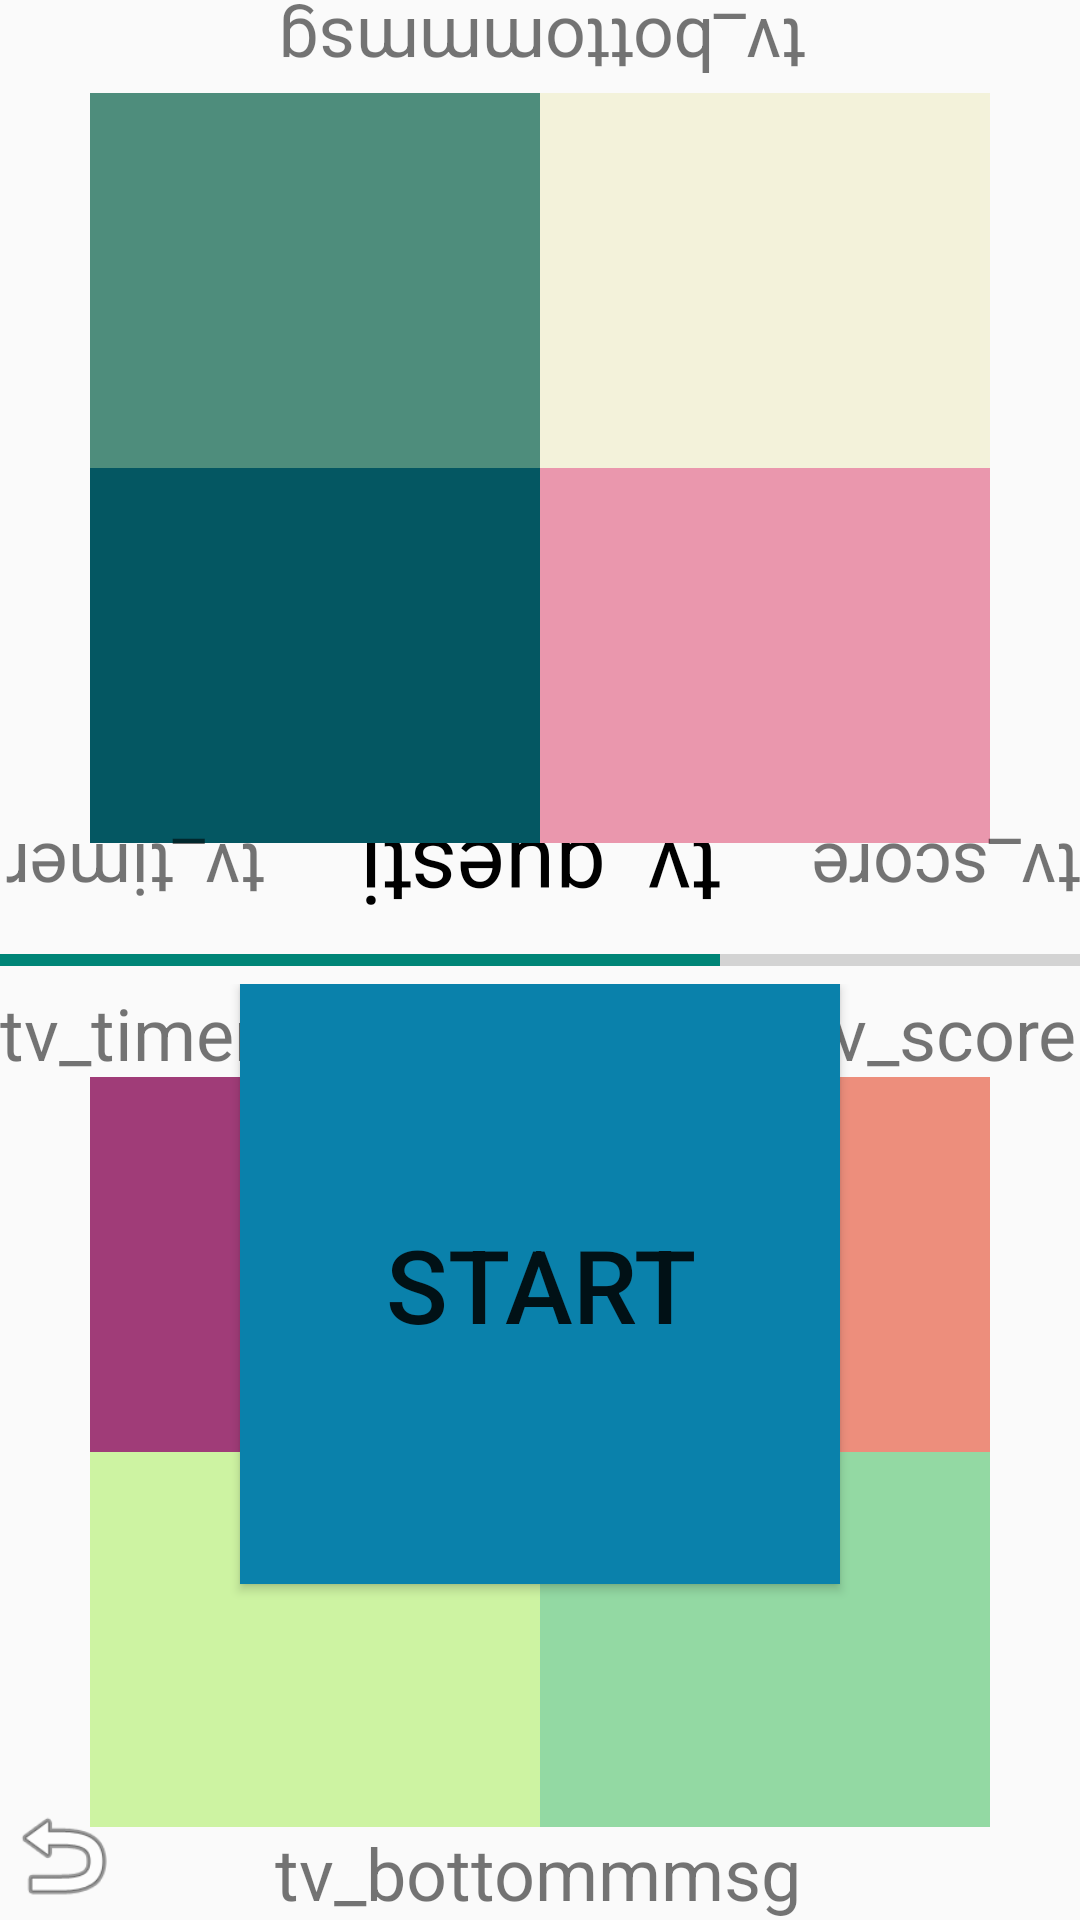

Screen size 1080 x 1920. Icon name, then its box in pixels as (x1, y1, x2, y2):
revert: (22, 1818, 107, 1895)
